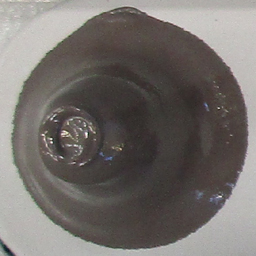perfect: (9, 4, 256, 251)
